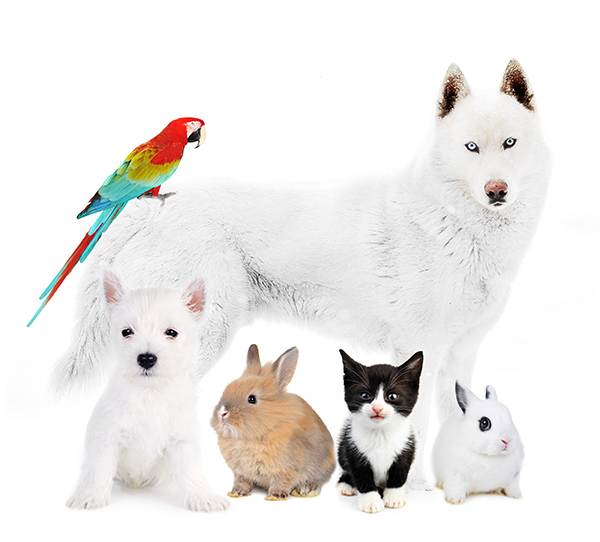cat: (328, 347, 426, 516)
dog: (95, 264, 201, 497)
rabbit: (214, 347, 324, 504), (438, 369, 536, 509)
